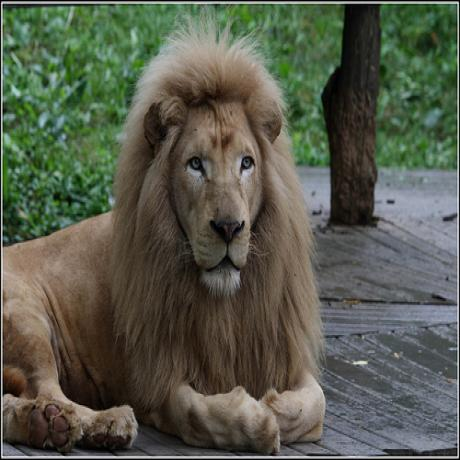Lion: (0, 24, 328, 453)
